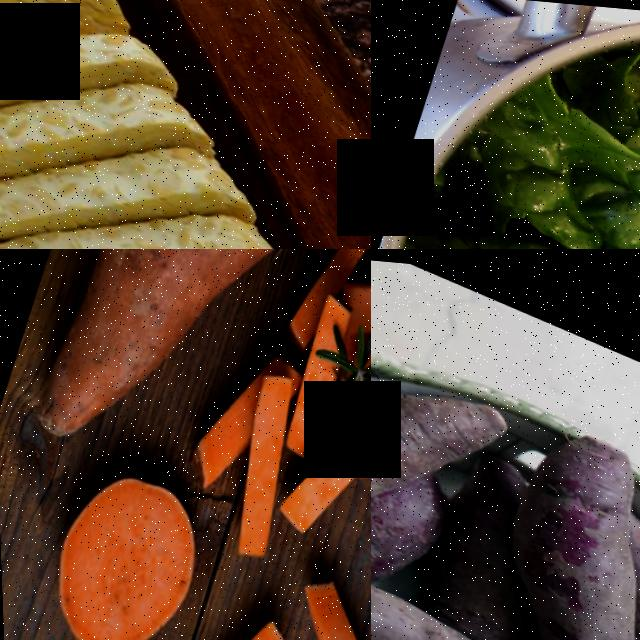spinach: (454, 64, 640, 249)
sweet potato: (26, 249, 287, 485), (371, 288, 519, 611), (460, 402, 640, 640), (24, 449, 214, 640), (371, 506, 574, 640)
tempeh: (0, 0, 327, 249), (4, 217, 340, 249)
